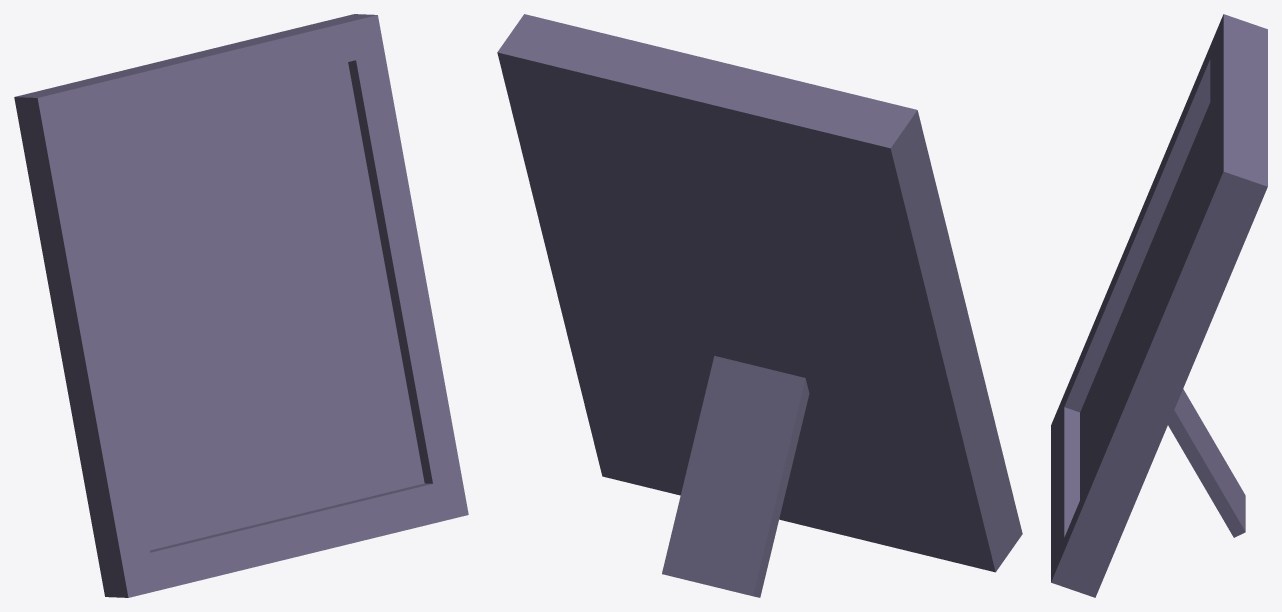
Rendered from SM_Photo2.fbx.
3 renders of one model, left to right at view 1: azimuth 30°, elevation 25°; view 2: azimuth 150°, elevation 25°; view 3: azimuth 270°, elevation 25°, orthographic. The views are drawn at different scales.
Visible parts, largest first — view 1: SM_Photo2; view 2: SM_Photo2; view 3: SM_Photo2.
Boxes of the visible parts, bbox=[...] form: SM_Photo2: bbox=[14, 14, 468, 597]; SM_Photo2: bbox=[497, 14, 1022, 597]; SM_Photo2: bbox=[1051, 14, 1267, 597].
Size of the model in its own units: 38.74 by 48.96 by 22.53.
